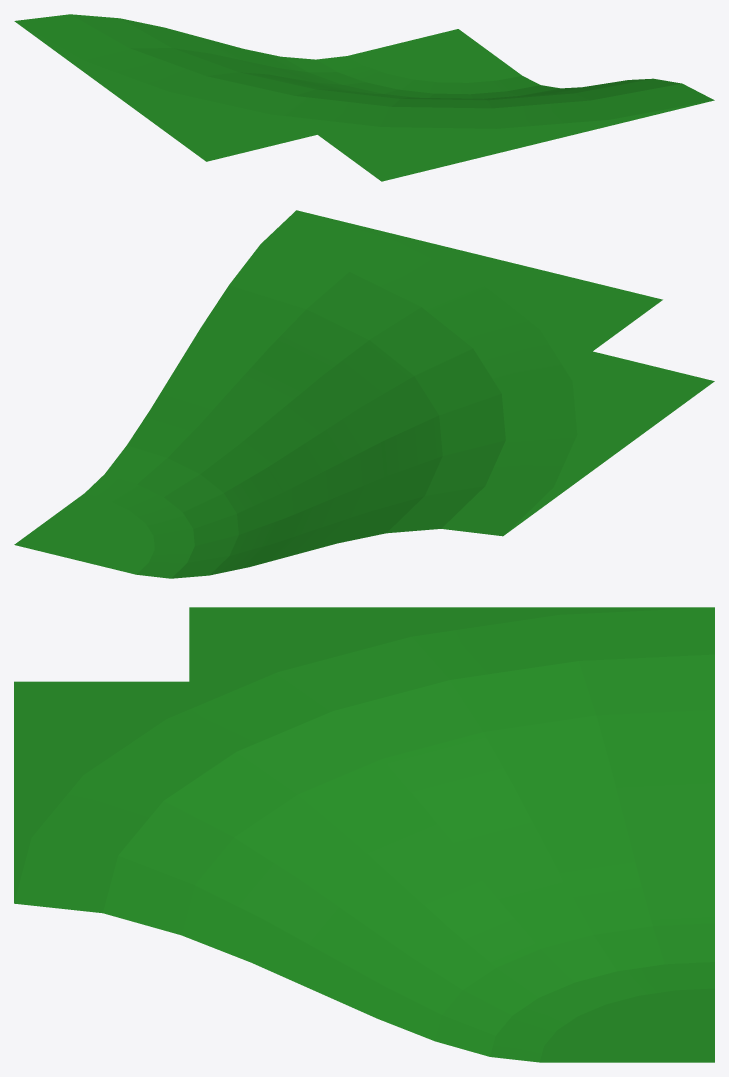
The model's file is Terrain_Hill_Corner_Inner_4x4.obj.
3 views of the same model, one above another, from view 1: azimuth 30°, elevation 25°; view 2: azimuth 150°, elevation 25°; view 3: azimuth 270°, elevation 25° (orthographic). The views are drawn at different scales.
Visible parts, largest first — view 1: Grass; view 2: Grass; view 3: Grass.
Part boxes in pixels (x1,y1,x2,y2): Grass: [14, 14, 714, 181]; Grass: [14, 210, 714, 578]; Grass: [14, 607, 714, 1062].
Bounding box in the file's own units: 4 × 1 × 4.
